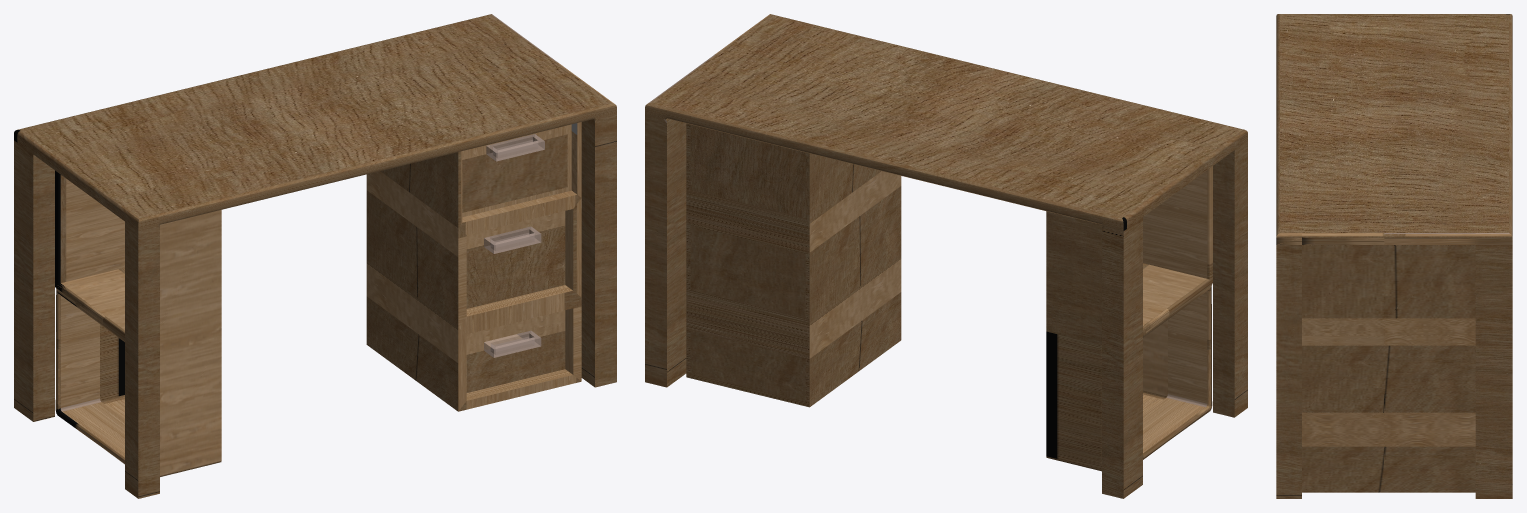
File: Computer Desk.fbx
3 renders of one model, left to right at view 1: azimuth 30°, elevation 25°; view 2: azimuth 150°, elevation 25°; view 3: azimuth 270°, elevation 25°, orthographic. The views are drawn at different scales.
Visible parts, largest first — view 1: Main_object; view 2: Main_object; view 3: Main_object.
Part boxes in pixels (x1,y1,x2,y2): Main_object: [14, 14, 616, 498]; Main_object: [645, 14, 1247, 498]; Main_object: [1276, 14, 1512, 498].
Size of the model in its own units: 4.9 by 2.77 by 2.21.
Materials: 6 (4 with a texture image).
